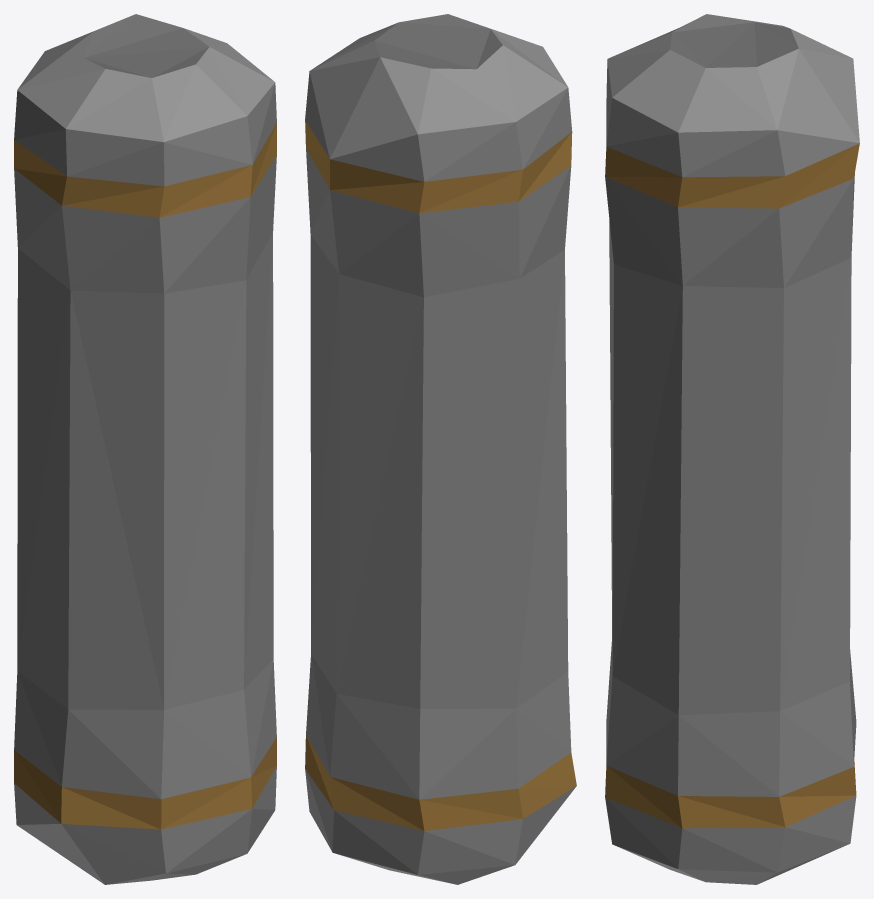
File: kit_vessel_tall.glb
The picture shows the model from 3 angles, left to right: view 1: azimuth 30°, elevation 25°; view 2: azimuth 150°, elevation 25°; view 3: azimuth 270°, elevation 25°; orthographic projection.
Parts seen in each view (by area): view 1: kit_vessel_tall; view 2: kit_vessel_tall; view 3: kit_vessel_tall.
Boxes of the visible parts, left/top/right/bottom form: kit_vessel_tall: left=14, top=14, right=276, bottom=884; kit_vessel_tall: left=305, top=14, right=576, bottom=884; kit_vessel_tall: left=605, top=14, right=859, bottom=884.
Bounding box in the file's own units: 0.2855 × 1.02 × 0.2853.
